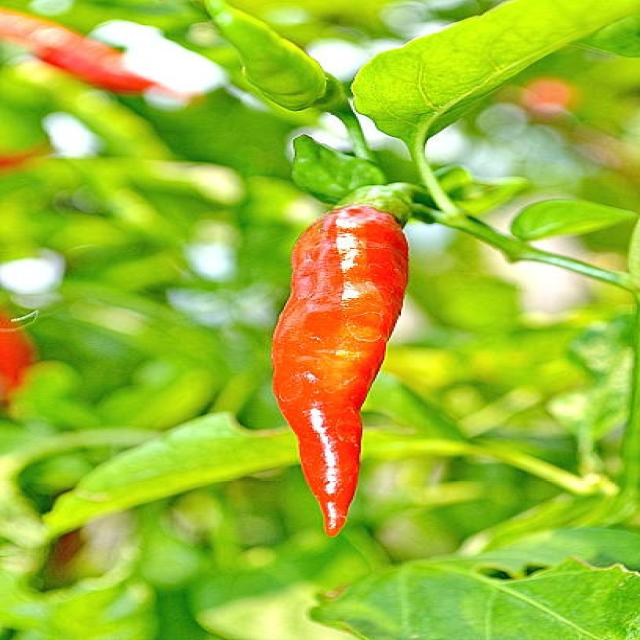Ripe: (270, 205, 411, 540)
